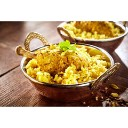briyani: (15, 46, 100, 80), (65, 20, 122, 37)
